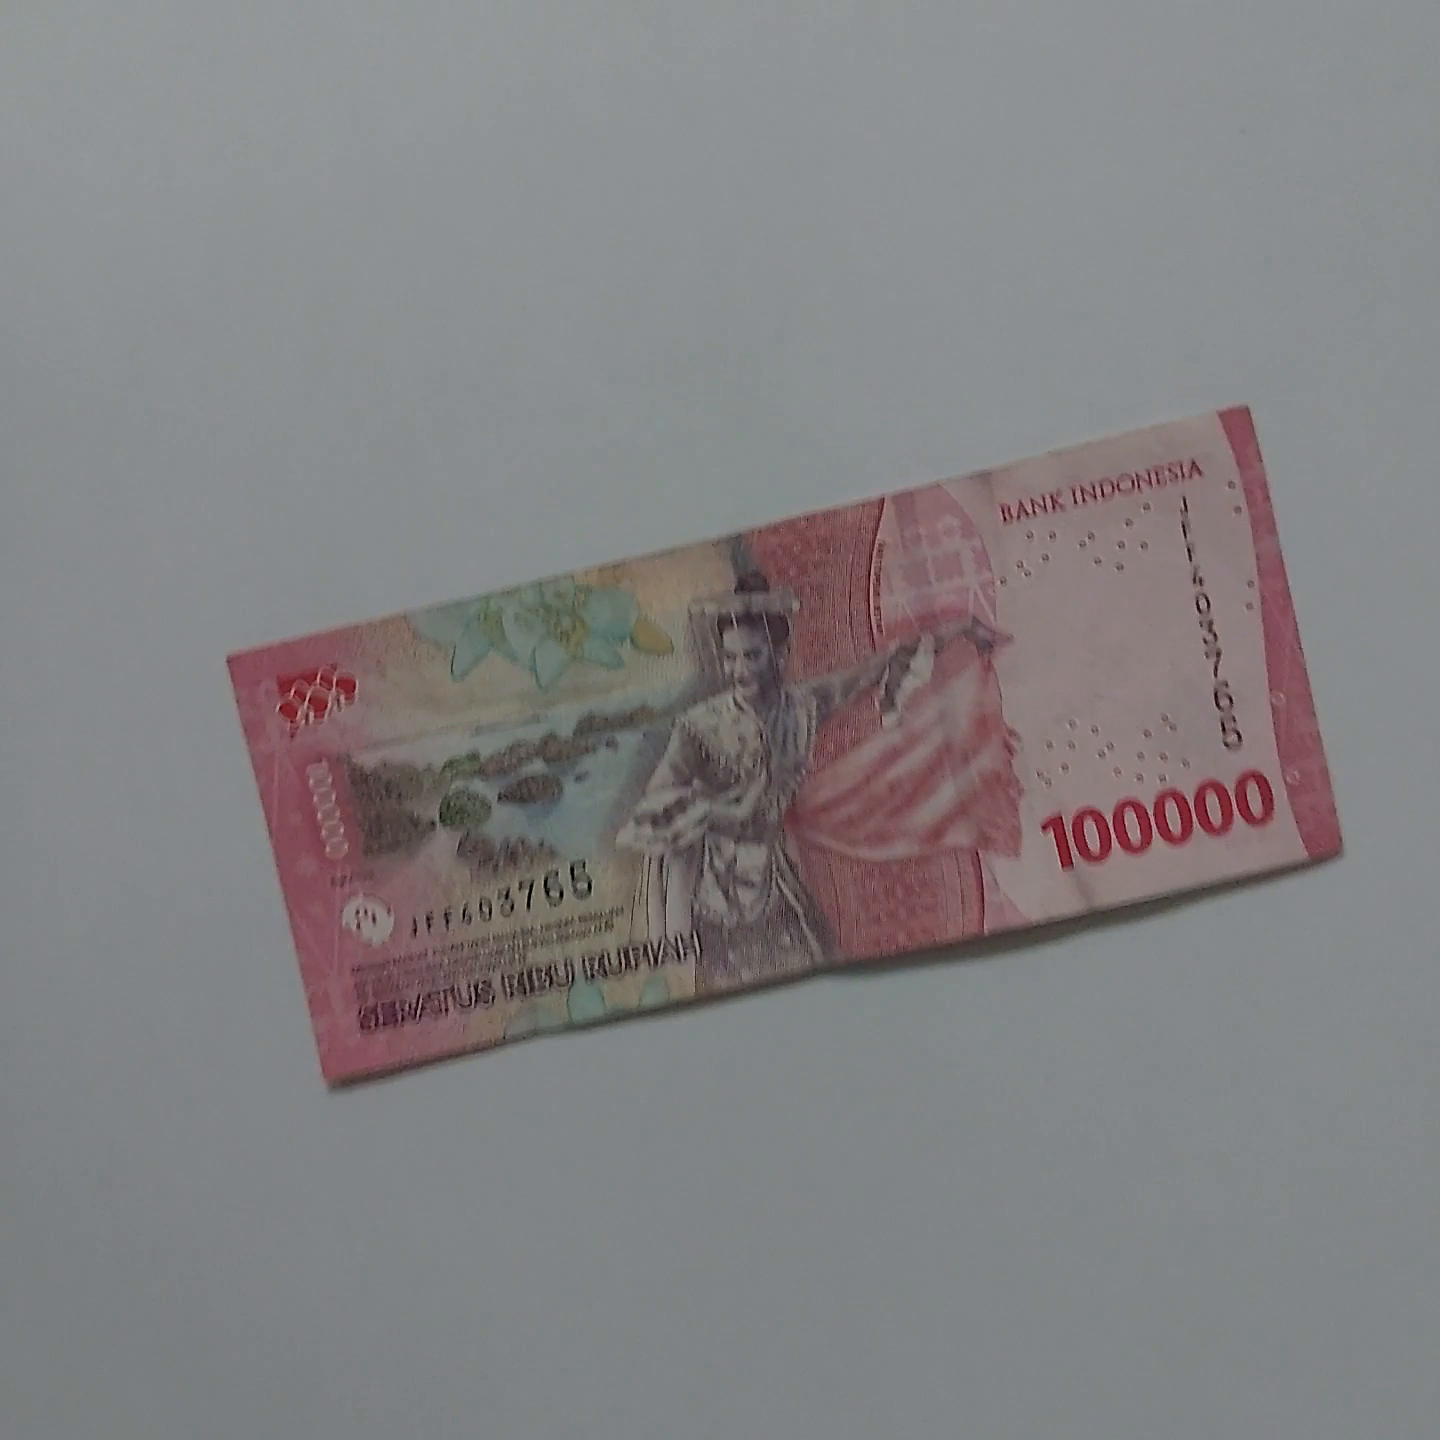100k: (149, 394, 1350, 1120)
